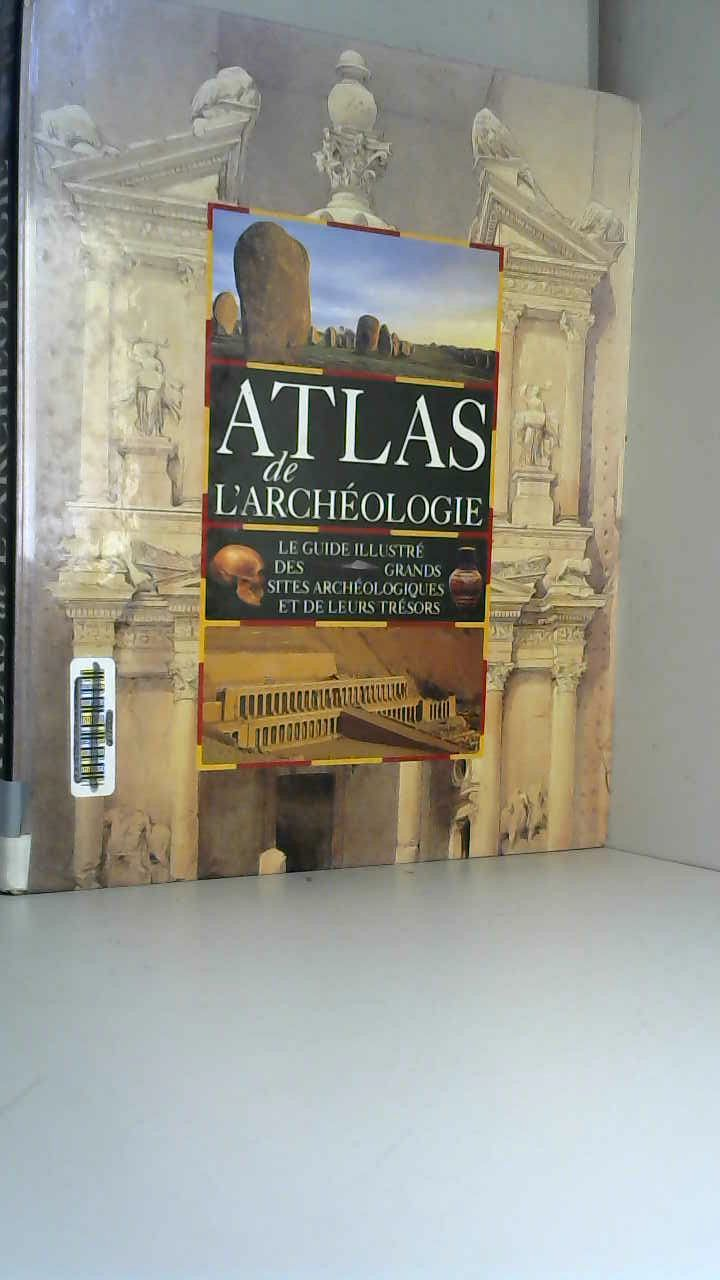book: (0, 0, 676, 924)
